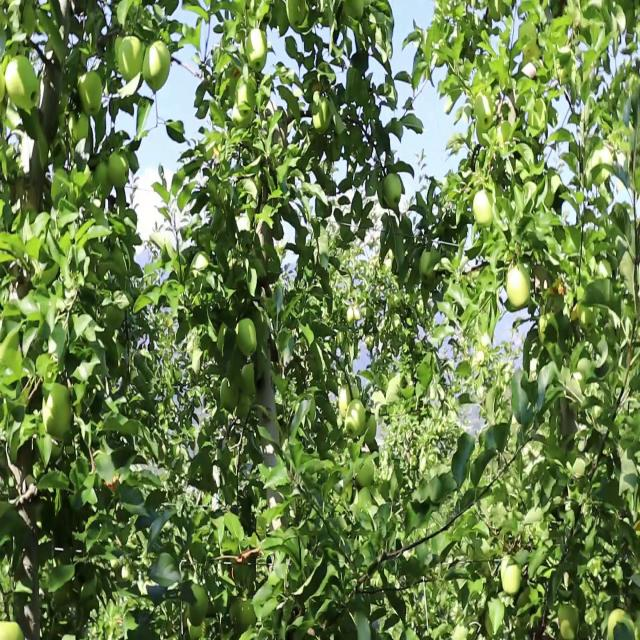apple: (5, 54, 41, 110), (42, 383, 73, 440), (141, 40, 171, 92), (114, 32, 142, 80), (504, 264, 532, 309), (78, 71, 104, 118), (184, 581, 210, 625), (245, 29, 269, 73), (235, 316, 258, 360), (557, 599, 581, 640), (472, 189, 496, 229), (235, 70, 255, 117), (311, 96, 333, 138), (345, 398, 366, 440), (501, 554, 522, 596), (474, 92, 495, 130), (108, 151, 130, 187), (382, 172, 402, 210), (220, 374, 238, 415), (338, 383, 359, 418), (355, 453, 375, 488), (417, 250, 436, 286), (593, 146, 612, 182), (93, 160, 111, 197), (362, 410, 378, 443), (286, 0, 306, 26)
